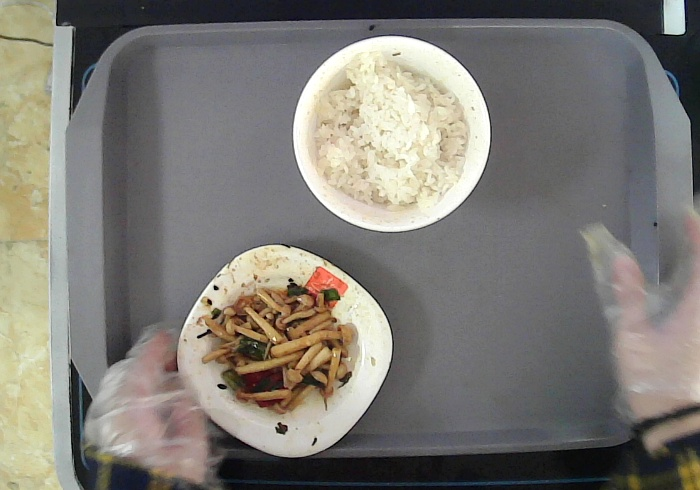SHKJ-Bai_Se_Si_Fang_Cai_Die: (177, 243, 392, 456)
SHKJ-Fan_Wan: (293, 33, 492, 231)
